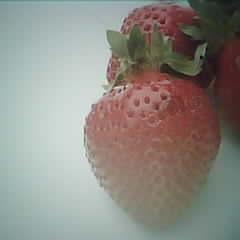straw-ripe: (82, 72, 221, 228)
